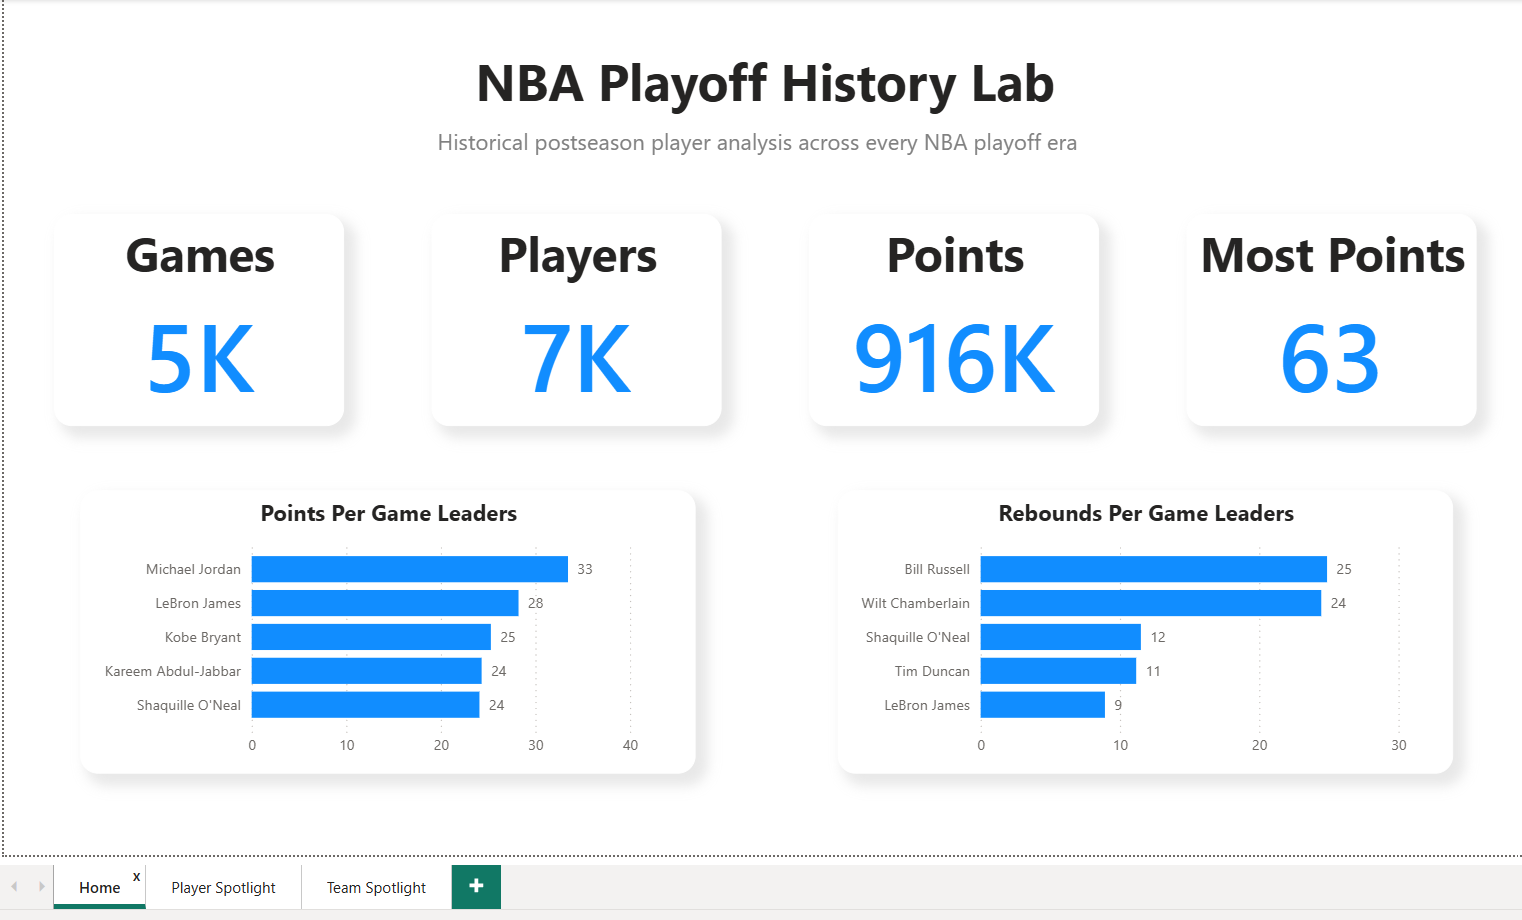

The dashboard page shown, as its layout file describes it:
{"tool":"powerbi","page":{"name":"Home","canvas":[1280,720],"ordinal":0},"visuals":[{"type":"textbox","box":[386.9,34.7,506.8,67.3],"z":0},{"type":"textbox","box":[359.3,102.3,560.5,41.9],"z":1000},{"type":"cardVisual","title":"Points","fields":{"Data":["_Measures.Total Points"]},"box":[677.4,181.1,244.3,178.4],"z":2000},{"type":"cardVisual","title":"Games","fields":{"Data":["_Measures.Total Games"]},"box":[42.5,181.1,244.3,178.4],"z":3000},{"type":"cardVisual","title":"Players","fields":{"Data":["_Measures.Total Players"]},"box":[360,181.1,244.3,178.4],"z":4000},{"type":"cardVisual","title":"Most Points","fields":{"Data":["_Measures.Highest Scoring Game"]},"box":[994.9,181.1,244.3,178.4],"z":5000},{"type":"clusteredBarChart","title":"Points Per Game Leaders","fields":{"Category":["dim_players.player_name"],"Y":["_Measures.PPG"]},"box":[64,412.8,517.4,238.4],"z":6000},{"type":"clusteredBarChart","title":"Rebounds Per Game Leaders","fields":{"Category":["dim_players.player_name"],"Y":["_Measures.RPG"]},"box":[701.2,412.8,517.4,238.4],"z":7000}]}

Visuals, with their boxes on the page's 1280x720 design canvas (x1, y1, x2, y2). These are canvas units, not pixel positions in the 1522x920 screenshot, which may show the page scaled, cropped or inside an application window:
textbox: rect(387, 35, 894, 102)
textbox: rect(359, 102, 920, 144)
"Points" cardVisual: rect(677, 181, 922, 360)
"Games" cardVisual: rect(42, 181, 287, 360)
"Players" cardVisual: rect(360, 181, 604, 360)
"Most Points" cardVisual: rect(995, 181, 1239, 360)
"Points Per Game Leaders" clusteredBarChart: rect(64, 413, 581, 651)
"Rebounds Per Game Leaders" clusteredBarChart: rect(701, 413, 1219, 651)
